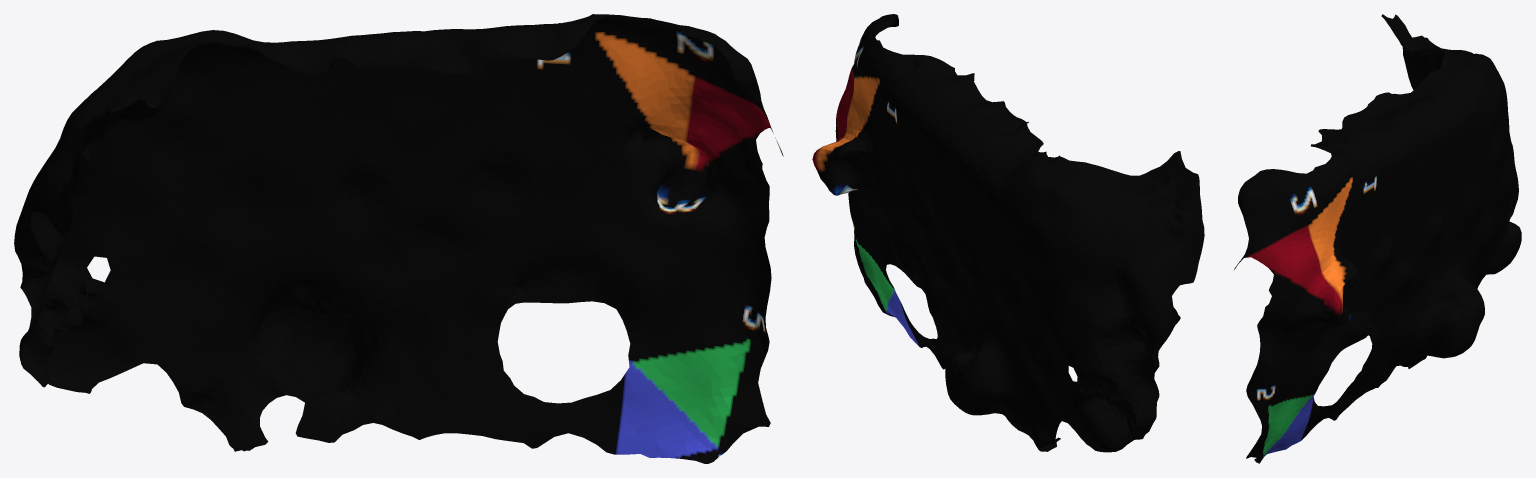
Rendered from texturedMesh.obj.
3 renders of one model, left to right at view 1: azimuth 30°, elevation 25°; view 2: azimuth 150°, elevation 25°; view 3: azimuth 270°, elevation 25°, orthographic. The views are drawn at different scales.
Visible parts, largest first — view 1: TexturedMesh; view 2: TexturedMesh; view 3: TexturedMesh.
Boxes of the visible parts, x1,y1,x2,y2 form: TexturedMesh: (14, 14, 783, 463); TexturedMesh: (812, 14, 1204, 452); TexturedMesh: (1233, 14, 1521, 463).
Size of the model in its own units: 0.5658 by 0.3805 by 0.3414.
